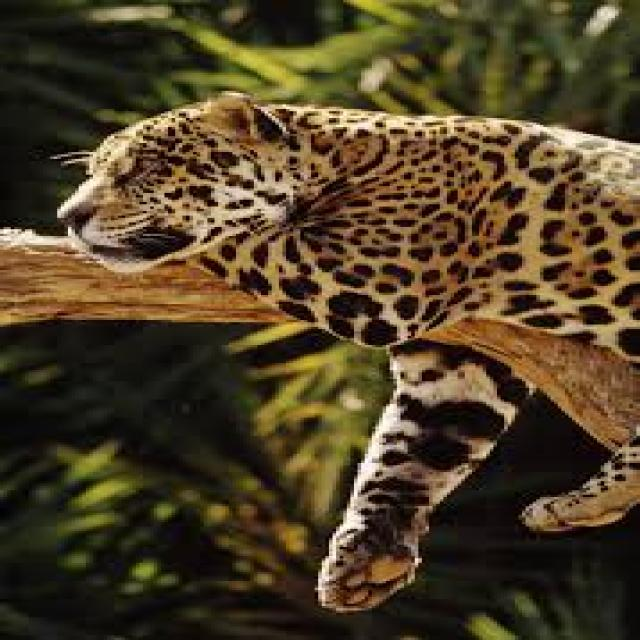Jaguar: (57, 88, 640, 572)
